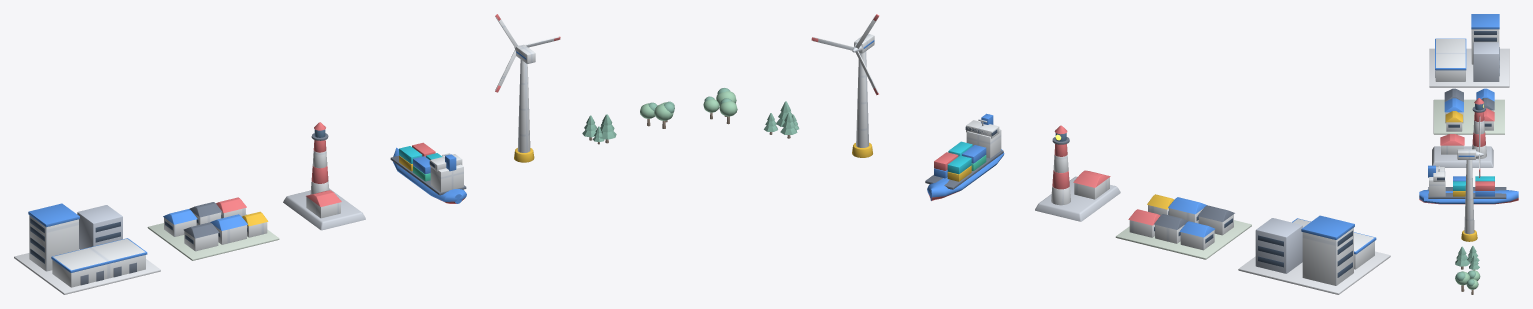
Rendered from town_coast_props.glb.
3 renders of one model, left to right at view 1: azimuth 30°, elevation 25°; view 2: azimuth 150°, elevation 25°; view 3: azimuth 270°, elevation 25°, orthographic. The views are drawn at different scales.
Parts seen in each view (by area): view 1: Town_Block_Commercial_Mesh, Town_Block_Residential_Mesh, Coastal_Lighthouse_Structure, Cargo_Ship_Hull, Wind_Turbine_Tower, Tree_Cluster_Pine_Mesh, Tree_Cluster_Deciduous_Mesh, Turbine_Rotor; view 2: Town_Block_Commercial_Mesh, Town_Block_Residential_Mesh, Cargo_Ship_Hull, Coastal_Lighthouse_Structure, Wind_Turbine_Tower, Tree_Cluster_Deciduous_Mesh, Tree_Cluster_Pine_Mesh, Turbine_Rotor; view 3: Town_Block_Commercial_Mesh, Town_Block_Residential_Mesh, Cargo_Ship_Hull, Coastal_Lighthouse_Structure, Wind_Turbine_Tower, Tree_Cluster_Pine_Mesh, Tree_Cluster_Deciduous_Mesh, Turbine_Nacelle, Turbine_Rotor.
Part boxes in pixels (x1,y1,x2,y2): Town_Block_Commercial_Mesh: [14, 203, 160, 294]; Town_Block_Residential_Mesh: [147, 197, 279, 260]; Coastal_Lighthouse_Structure: [283, 122, 365, 230]; Cargo_Ship_Hull: [390, 142, 466, 203]; Wind_Turbine_Tower: [514, 59, 534, 162]; Tree_Cluster_Pine_Mesh: [582, 114, 616, 144]; Tree_Cluster_Deciduous_Mesh: [640, 101, 674, 128]; Turbine_Rotor: [495, 14, 560, 92]; Town_Block_Commercial_Mesh: [1238, 215, 1390, 294]; Town_Block_Residential_Mesh: [1115, 194, 1251, 259]; Cargo_Ship_Hull: [925, 113, 1004, 200]; Coastal_Lighthouse_Structure: [1035, 125, 1120, 221]; Wind_Turbine_Tower: [852, 51, 872, 157]; Tree_Cluster_Deciduous_Mesh: [703, 88, 737, 124]; Tree_Cluster_Pine_Mesh: [764, 101, 799, 138]; Turbine_Rotor: [811, 14, 879, 95]; Town_Block_Commercial_Mesh: [1429, 14, 1509, 87]; Town_Block_Residential_Mesh: [1433, 88, 1504, 134]; Cargo_Ship_Hull: [1419, 165, 1518, 204]; Coastal_Lighthouse_Structure: [1432, 98, 1493, 167]; Wind_Turbine_Tower: [1461, 160, 1477, 241]; Tree_Cluster_Pine_Mesh: [1455, 246, 1479, 270]; Tree_Cluster_Deciduous_Mesh: [1455, 270, 1480, 294]; Turbine_Nacelle: [1457, 149, 1475, 159]; Turbine_Rotor: [1476, 115, 1483, 177].
Bounding box in the file's own units: 131 × 28.65 × 22.24.
Materials: 18 (2 with a texture image).
